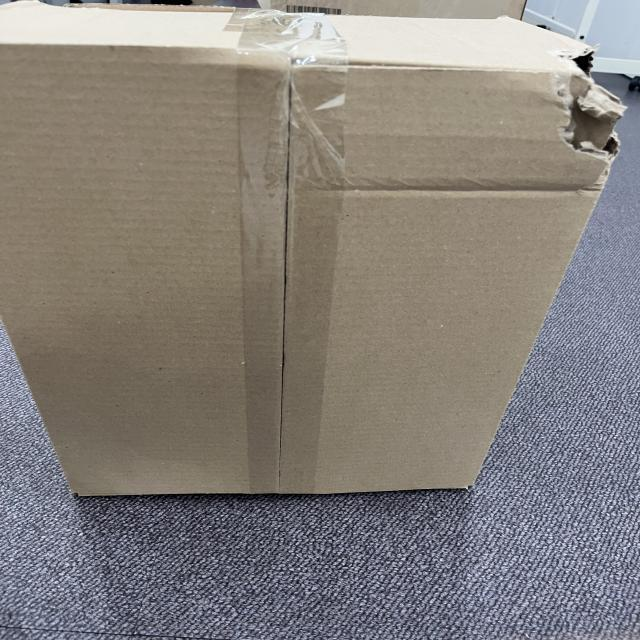hole: (535, 34, 625, 164)
